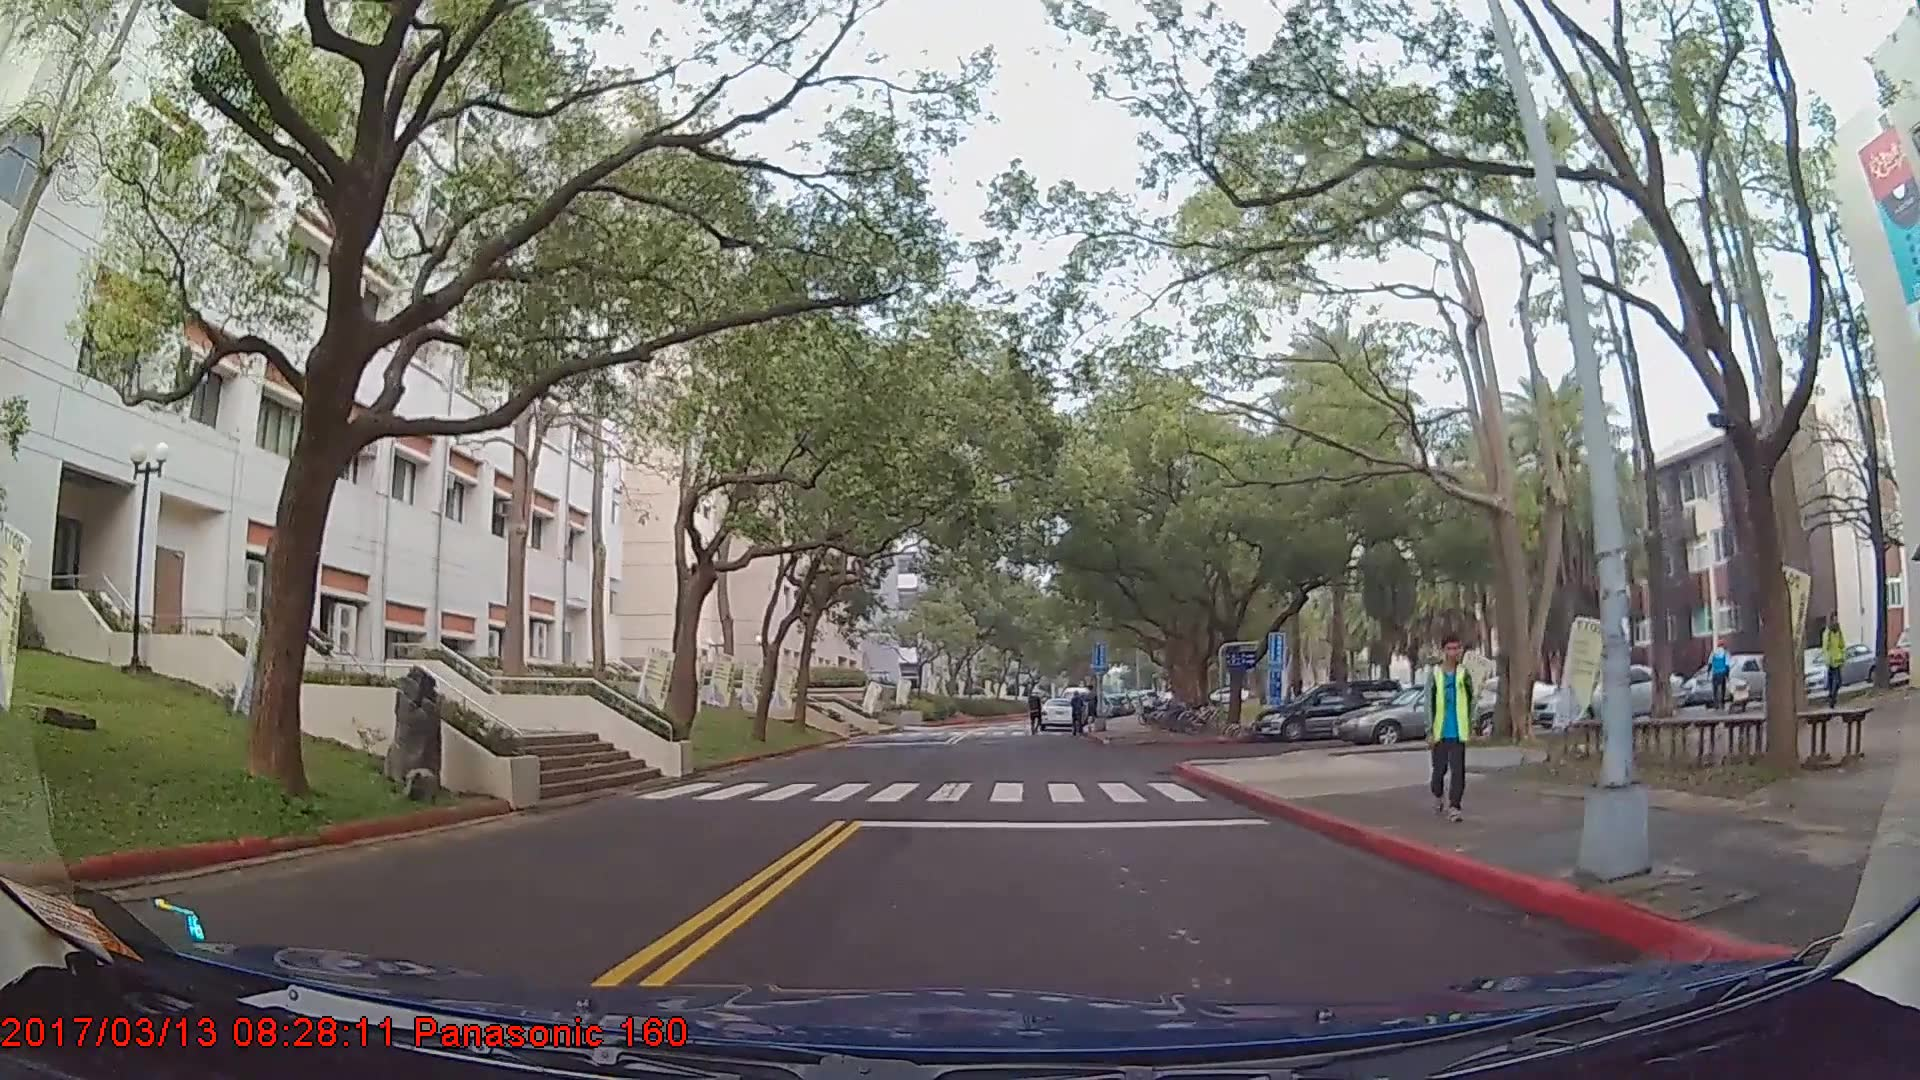pedestrian: (1415, 625, 1477, 815), (1820, 612, 1850, 717), (1704, 625, 1737, 716), (1068, 689, 1089, 734), (1027, 688, 1047, 736)
vehicle: (1332, 681, 1515, 746), (1533, 661, 1685, 729), (1254, 679, 1404, 739), (1797, 641, 1884, 691), (1038, 694, 1080, 732)
